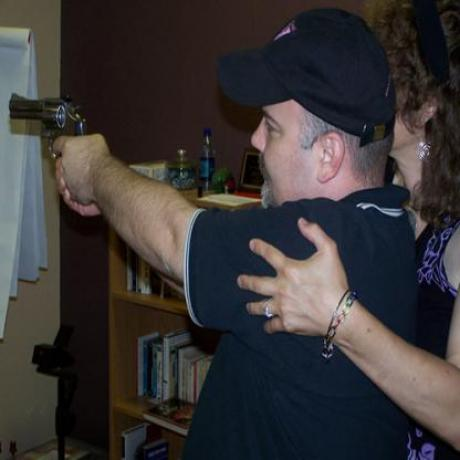1: (53, 11, 411, 456), (242, 0, 460, 460)
weapon: (8, 98, 88, 202)
